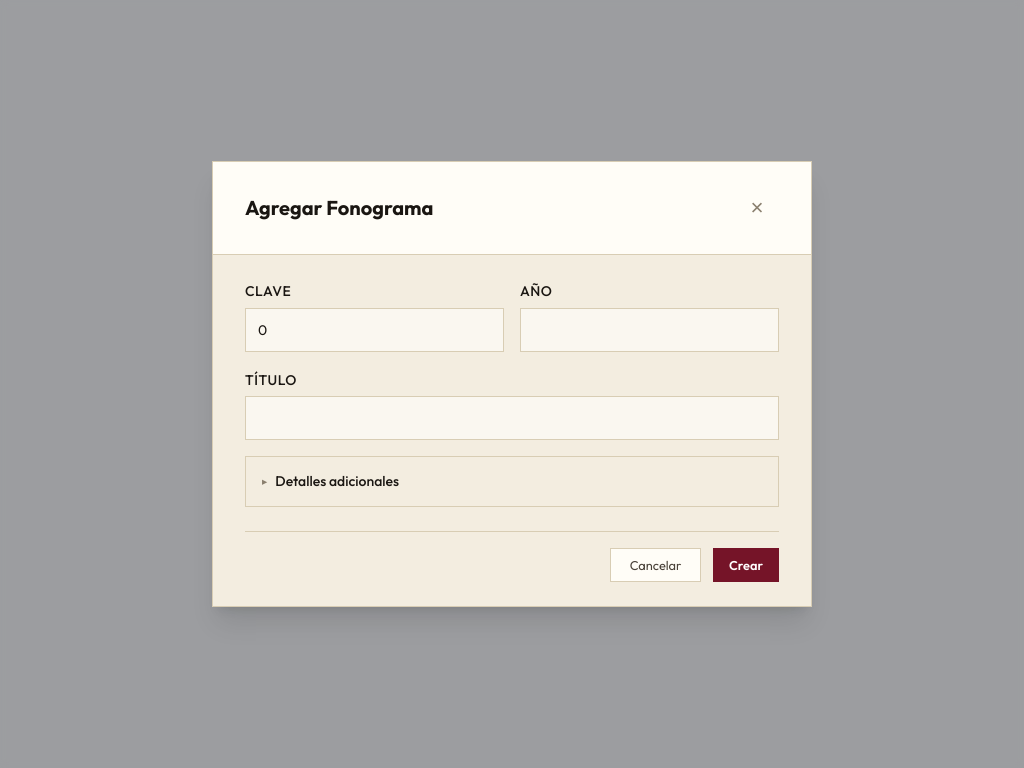
Test: AdminFormModal.vue › disables submit button while loading
Step 1. Replace the text in the number field with id "clave_fonograma" with "1" → (374, 330), box [245,308,504,352]
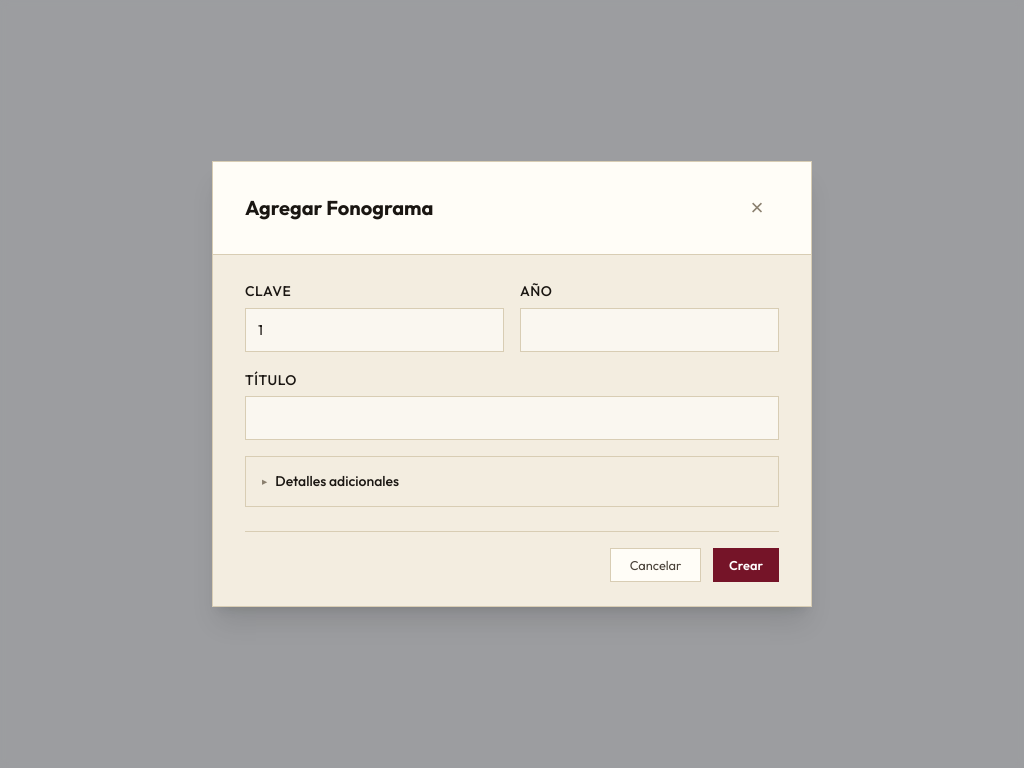
Step 2. Type "X" into the field with id "titulo" → (512, 418), box [245,396,779,440]
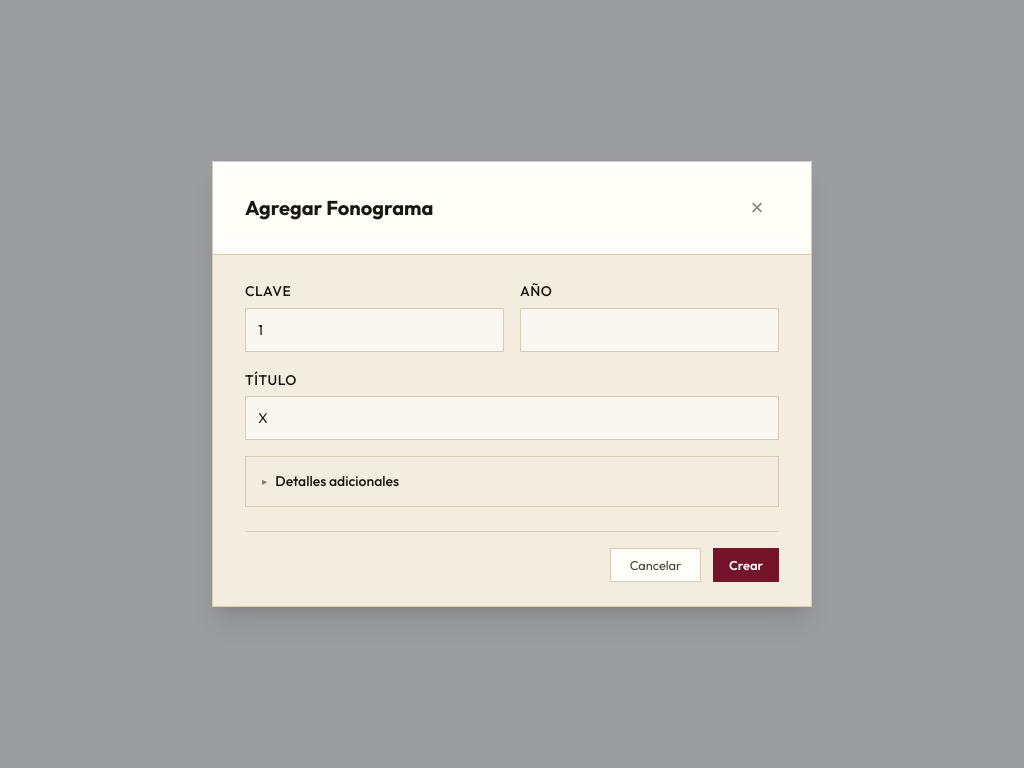
Step 3. Submit the form, box [245,279,779,582]
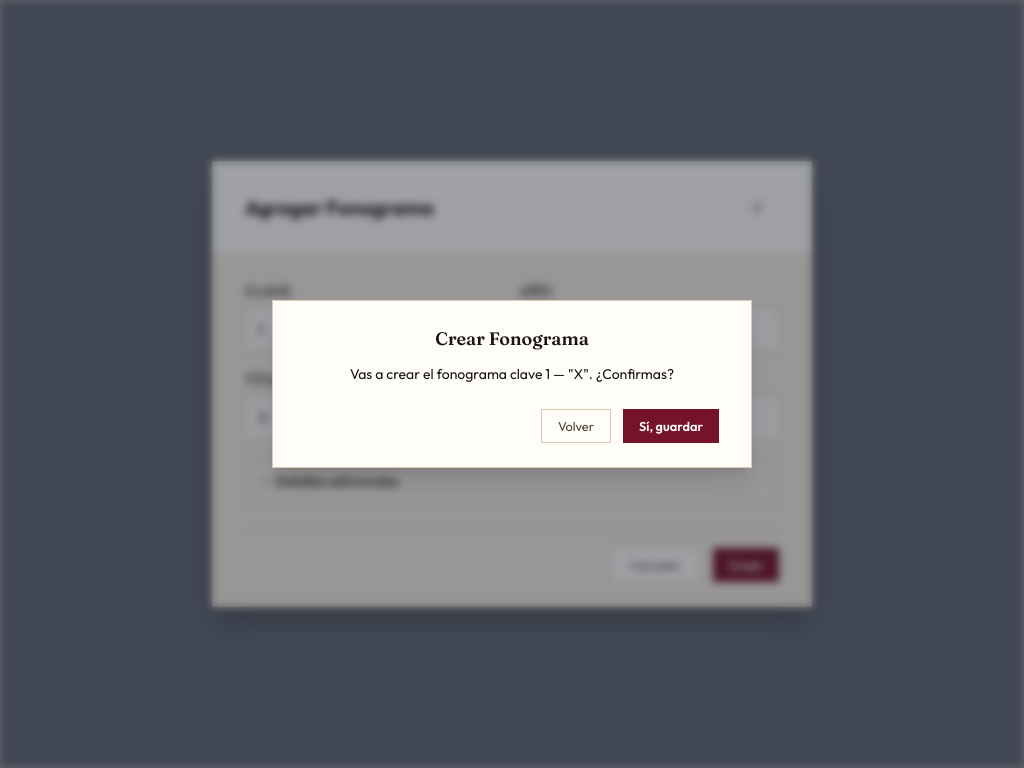
Step 4. Click the button "Sí, guardar" → click(671, 426), box [623,409,719,443]
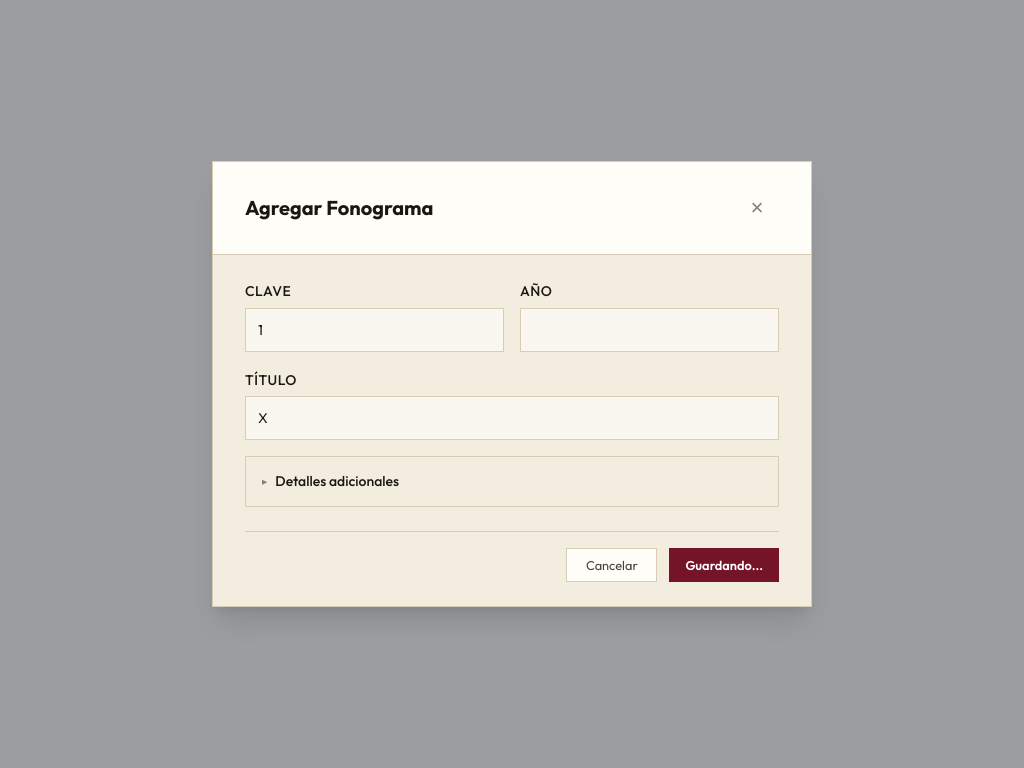
Now the submit button is disabled, box [669,548,779,582]
